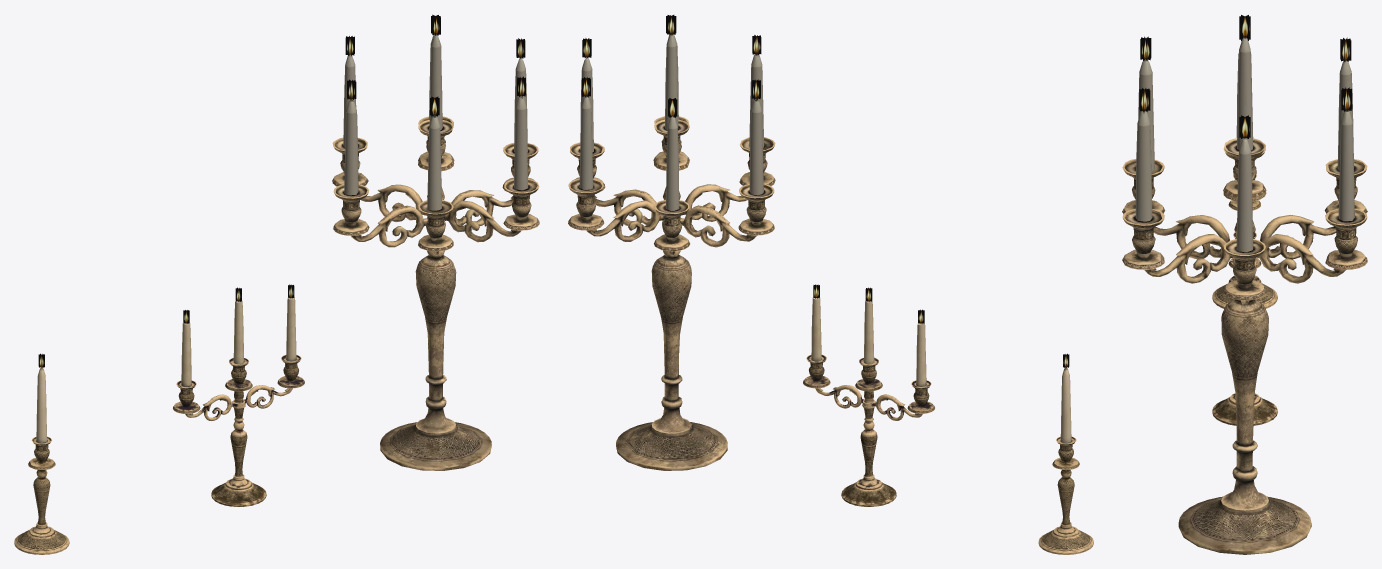
The model's file is brass_candleholders.glb.
The picture shows the model from 3 angles, left to right: view 1: azimuth 30°, elevation 25°; view 2: azimuth 150°, elevation 25°; view 3: azimuth 270°, elevation 25°; orthographic projection. The views are drawn at different scales.
Parts seen in each view (by area): view 1: brass_candleholder_03, brass_candleholder_02, brass_candleholder_01; view 2: brass_candleholder_03, brass_candleholder_02, brass_candleholder_01; view 3: brass_candleholder_03, brass_candleholder_02, brass_candleholder_01.
Part boxes in pixels (x1,y1,x2,y2): brass_candleholder_03: [332, 14, 539, 470]; brass_candleholder_02: [173, 284, 304, 506]; brass_candleholder_01: [14, 353, 69, 554]; brass_candleholder_03: [568, 15, 775, 470]; brass_candleholder_02: [803, 284, 934, 506]; brass_candleholder_01: [1038, 353, 1093, 554]; brass_candleholder_03: [1122, 15, 1367, 554]; brass_candleholder_02: [1212, 232, 1277, 425]; brass_candleholder_01: [1212, 174, 1277, 308].
Size of the model in its own units: 1.05 by 0.8353 by 0.3646.
5 materials, 5 textured.
